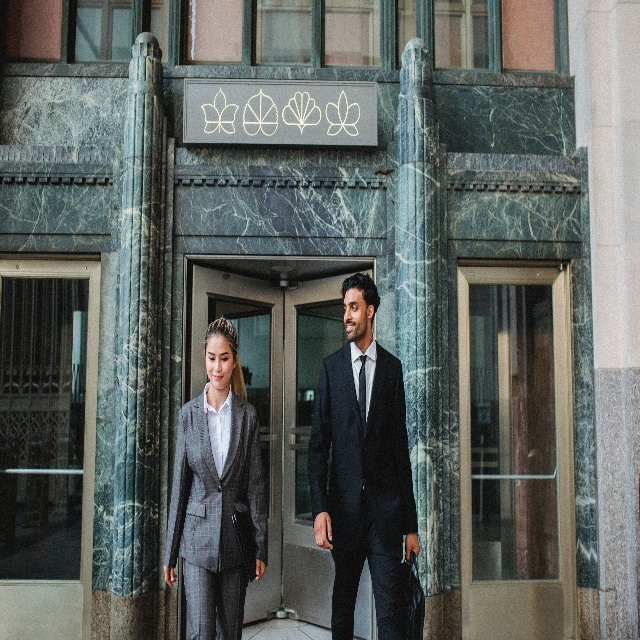Sin_guantes: (313, 511, 332, 549), (404, 533, 420, 565), (162, 563, 177, 589), (255, 561, 267, 582)
